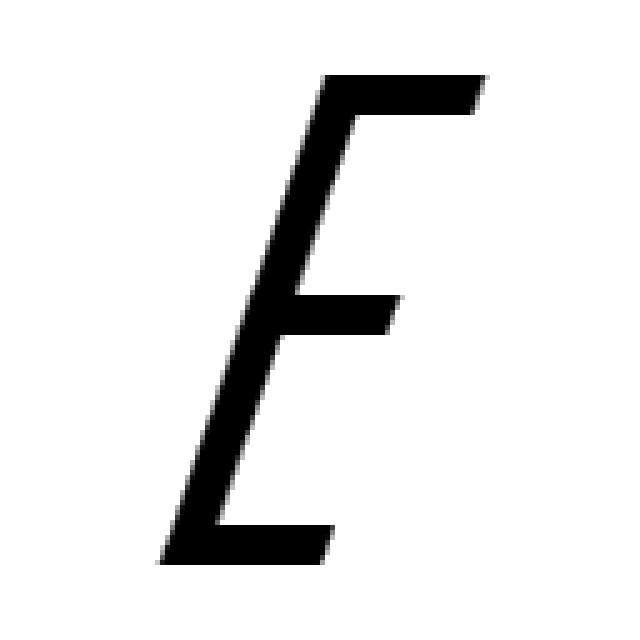E: (160, 75, 485, 570)
